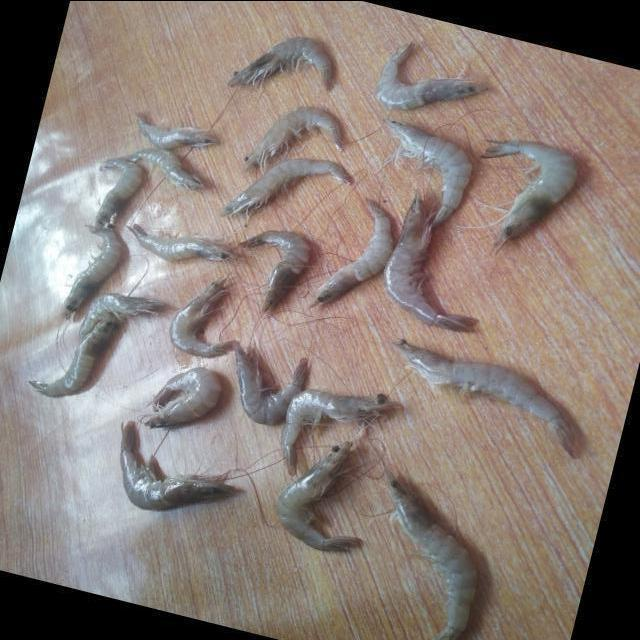shrimp: (391, 339, 575, 457), (386, 472, 477, 640), (384, 191, 476, 332), (119, 421, 236, 511), (482, 139, 578, 246), (281, 389, 399, 475), (383, 118, 472, 226), (276, 441, 360, 552), (308, 199, 393, 308), (218, 158, 350, 216), (376, 41, 486, 109), (27, 318, 114, 397), (243, 105, 342, 169), (232, 341, 307, 425), (238, 230, 309, 311), (227, 35, 332, 89), (61, 224, 121, 317), (168, 278, 232, 357), (143, 367, 220, 428), (77, 292, 164, 340), (126, 223, 238, 260), (93, 157, 142, 230), (122, 148, 204, 190), (136, 112, 217, 149)
